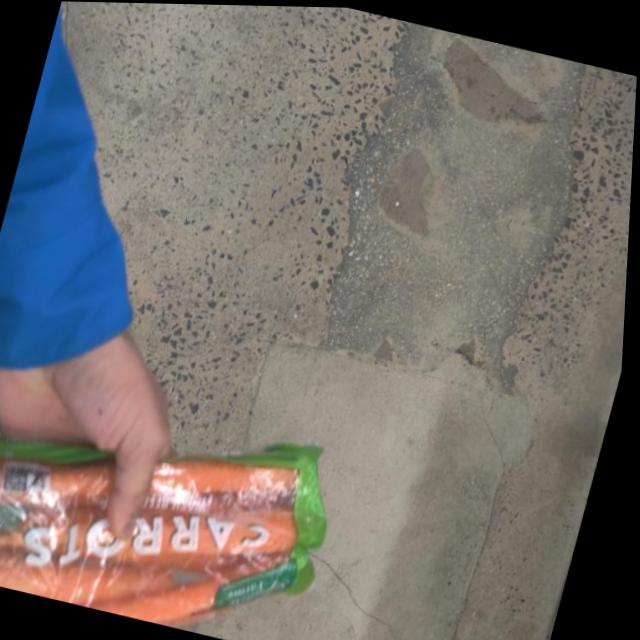Carrots: (0, 365, 353, 640)
